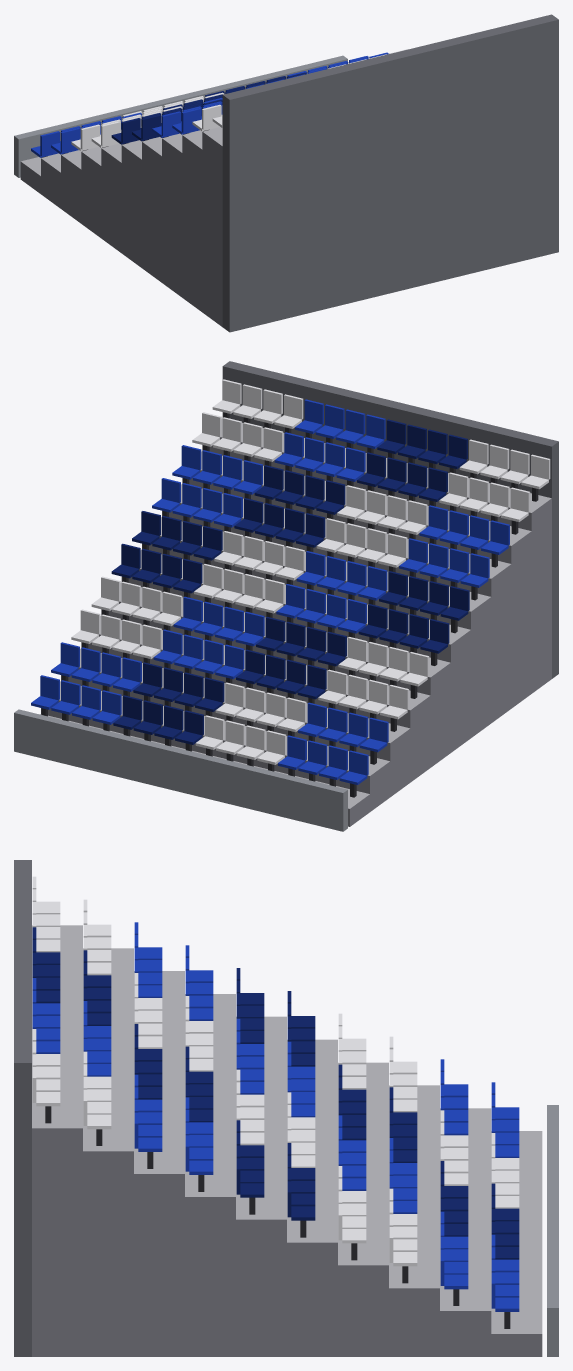
The model's file is GradaAzul.obj.
3 views of the same model, one above another, from view 1: azimuth 30°, elevation 25°; view 2: azimuth 150°, elevation 25°; view 3: azimuth 270°, elevation 25° (orthographic). The views are drawn at different scales.
Parts seen in each view (by area): view 1: GradaAzul; view 2: GradaAzul; view 3: GradaAzul.
Part boxes in pixels (x1,y1,x2,y2): GradaAzul: [14, 14, 558, 332]; GradaAzul: [14, 361, 558, 831]; GradaAzul: [14, 860, 558, 1356].
Bounding box in the file's own units: 8 × 5.4 × 9.08.
Materials: 1 (1 with a texture image).
